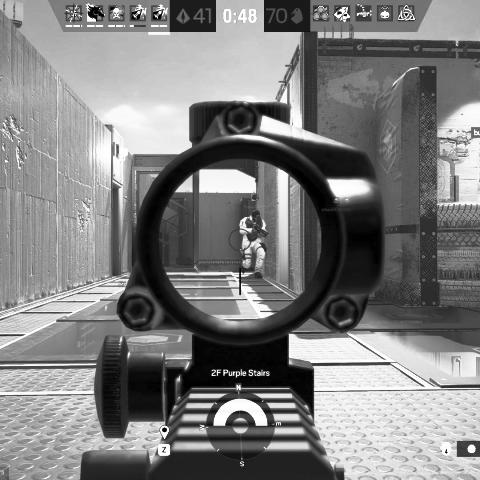Character: (238, 209, 268, 279)
Friend_label: (321, 197, 352, 212), (244, 192, 267, 208)
Head: (251, 209, 260, 222)
